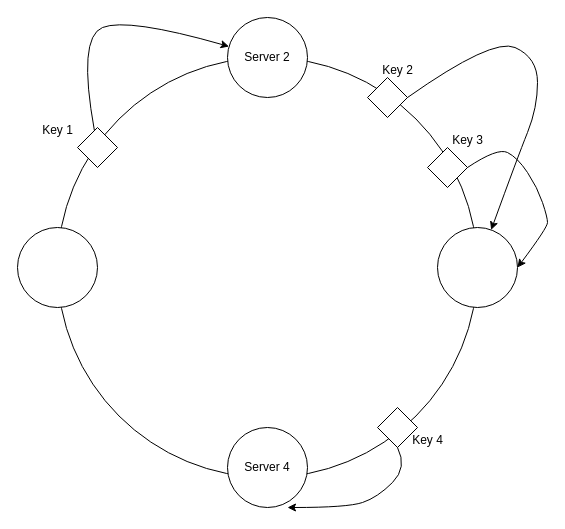
Some shapes in this 565 by 529 pixel diagram are drawn without their labels. Each missing label, with the centre of its shape:
"Server 1" belongs at point (57, 267).
"Server 3" belongs at point (477, 267).
